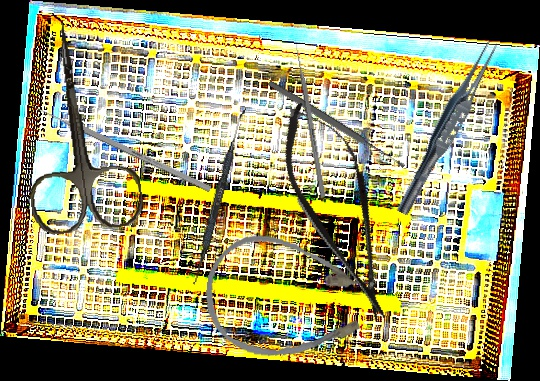Cannula: (198, 227, 382, 371)
Iris Scissors: (9, 16, 146, 237)
Micro Scissor: (264, 91, 416, 332)
Pusher: (25, 100, 213, 193), (292, 38, 327, 198)
Spatula Surgical: (191, 105, 247, 287)
Surgical Spoon: (266, 78, 407, 171)
Tissue Forceps: (392, 35, 504, 220)
